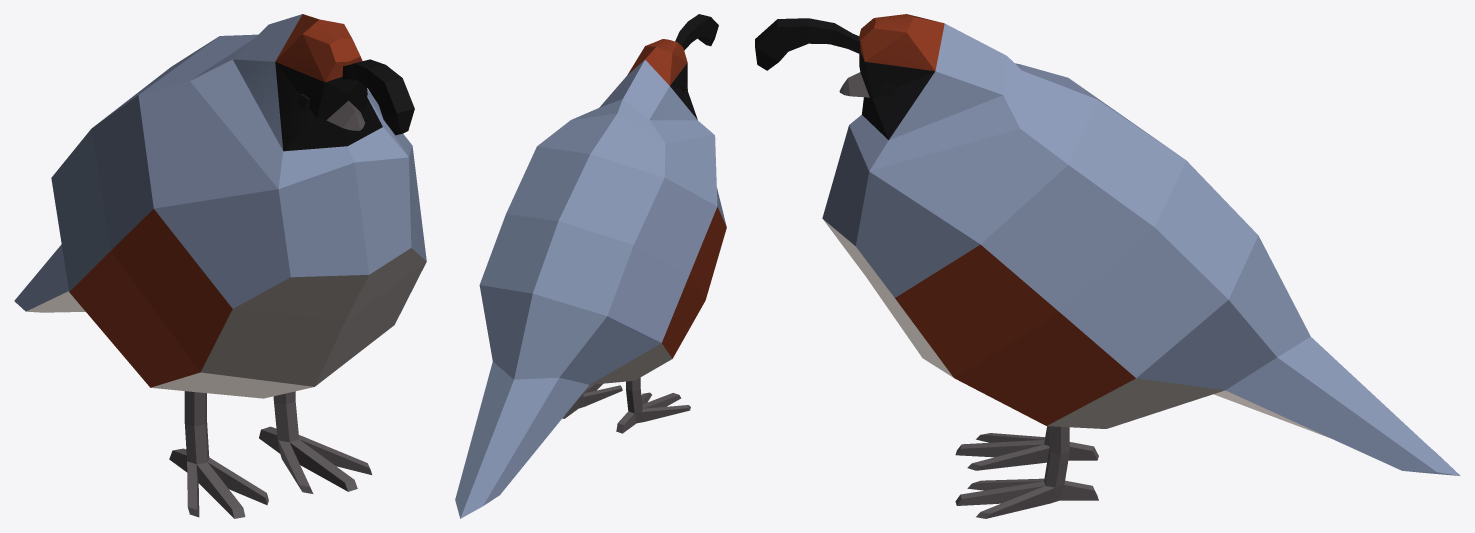
Rendered from 54d7b0b8-d10a-4b5e-94fe-1e1bcdf1ce2d.glb.
3 renders of one model, left to right at view 1: azimuth 30°, elevation 25°; view 2: azimuth 150°, elevation 25°; view 3: azimuth 270°, elevation 25°, orthographic. The views are drawn at different scales.
Parts seen in each view (by area): view 1: Geo_Quail; view 2: Geo_Quail; view 3: Geo_Quail.
Part boxes in pixels (bbox=[...]): Geo_Quail: bbox=[14, 14, 426, 518]; Geo_Quail: bbox=[455, 14, 726, 518]; Geo_Quail: bbox=[755, 14, 1460, 518].
Bounding box in the file's own units: 33.1 × 61.31 × 85.03.
1 material, 1 textured.
